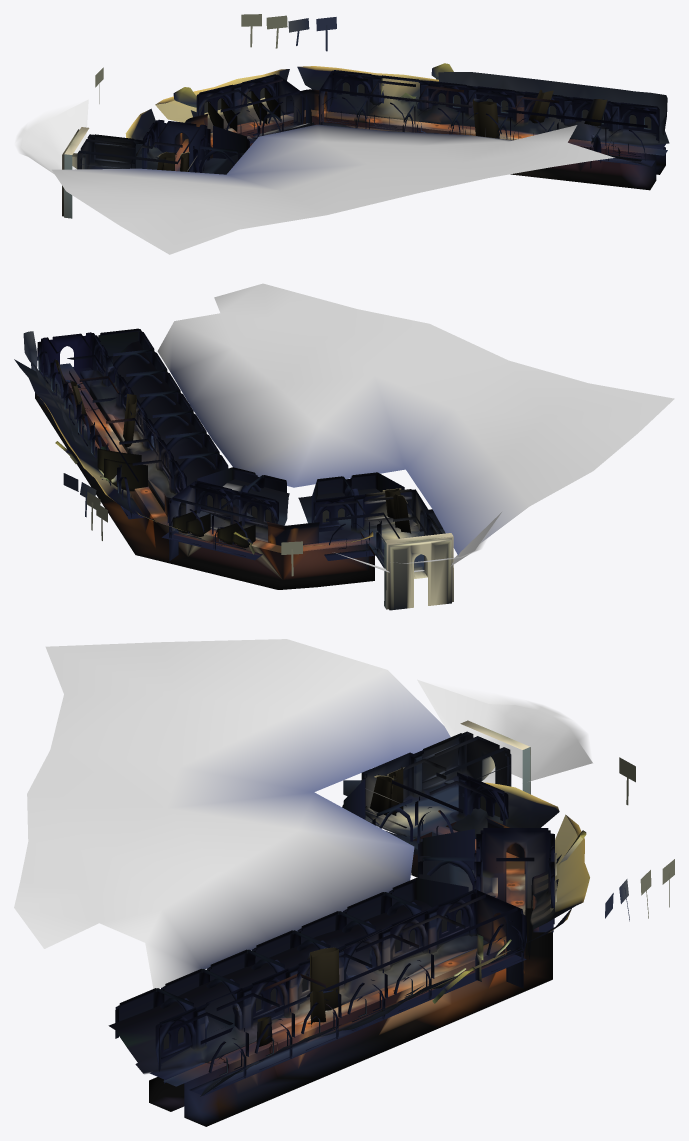
File: 01Start.gltf
The picture shows the model from 3 angles, top to bottom: view 1: azimuth 30°, elevation 25°; view 2: azimuth 150°, elevation 25°; view 3: azimuth 270°, elevation 25°; orthographic projection. The views are drawn at different scales.
Visible parts, largest first — view 1: stg013_a07_Mesh_0002, stg013_o07_Mesh_0005, stg013_sand_07_Mesh_0000, stg013_o07_Mesh_0021, stg013_o07_Mesh_0003, stg013_o13_Mesh_0022, stg013_a07_Mesh_0003, stg013_k07_Mesh_0000, stg013_o07_Mesh_0011, stg013_o07_Mesh_0015, stg013_o07_Mesh_0034, stg013_o08_Mesh_0001 (+7 smaller); view 2: stg013_a07_Mesh_0002, stg013_o07_Mesh_0005, stg013_o07_Mesh_0003, stg013_sand_07_Mesh_0000, stg013_o07_Mesh_0021, stg013_a07_Mesh_0003, stg013_k07_Mesh_0001, stg013_o07_Mesh_0013, stg013_o07_Mesh_0011, stg013_o07_Mesh_0034, stg013_o07_Mesh_0015, stg013_k07_Mesh_0000 (+7 smaller); view 3: stg013_a07_Mesh_0002, stg013_o07_Mesh_0005, stg013_o07_Mesh_0003, stg013_sand_07_Mesh_0000, stg013_o07_Mesh_0021, stg013_a07_Mesh_0003, stg013_o07_Mesh_0015, stg013_o07_Mesh_0011, stg013_k07_Mesh_0000, stg013_o07_Mesh_0009, stg013_o07_Mesh_0034, stg013_o08_Mesh_0001 (+8 smaller).
Boxes of the visible parts, box(x1,y1,x2,y2) form: stg013_a07_Mesh_0002: box(21, 99, 614, 254); stg013_o07_Mesh_0005: box(77, 70, 659, 172); stg013_sand_07_Mesh_0000: box(125, 66, 669, 174); stg013_o07_Mesh_0021: box(95, 64, 659, 162); stg013_o07_Mesh_0003: box(62, 116, 665, 216); stg013_o13_Mesh_0022: box(147, 63, 667, 170); stg013_a07_Mesh_0003: box(15, 103, 668, 172); stg013_k07_Mesh_0000: box(157, 89, 607, 171); stg013_o07_Mesh_0011: box(81, 80, 667, 171); stg013_o07_Mesh_0015: box(64, 73, 331, 218); stg013_o07_Mesh_0034: box(175, 111, 666, 170); stg013_o08_Mesh_0001: box(87, 97, 655, 169); stg013_a07_Mesh_0002: box(157, 283, 674, 572); stg013_o07_Mesh_0005: box(37, 328, 442, 607); stg013_o07_Mesh_0003: box(35, 367, 453, 610); stg013_sand_07_Mesh_0000: box(14, 341, 380, 553); stg013_o07_Mesh_0021: box(39, 331, 436, 534); stg013_a07_Mesh_0003: box(44, 370, 496, 570); stg013_k07_Mesh_0001: box(97, 448, 255, 547); stg013_o07_Mesh_0013: box(44, 350, 447, 609); stg013_o07_Mesh_0011: box(59, 343, 443, 578); stg013_o07_Mesh_0034: box(60, 363, 445, 578); stg013_o07_Mesh_0015: box(44, 334, 452, 608); stg013_k07_Mesh_0000: box(55, 359, 411, 533); stg013_a07_Mesh_0002: box(14, 639, 592, 988); stg013_o07_Mesh_0005: box(115, 731, 556, 1089); stg013_o07_Mesh_0003: box(149, 747, 552, 1126); stg013_sand_07_Mesh_0000: box(108, 782, 589, 1095); stg013_o07_Mesh_0021: box(115, 748, 581, 1059); stg013_a07_Mesh_0003: box(135, 684, 590, 1096); stg013_o07_Mesh_0015: box(365, 720, 546, 931); stg013_o07_Mesh_0011: box(163, 749, 526, 1086); stg013_k07_Mesh_0000: box(256, 766, 403, 1046); stg013_o07_Mesh_0009: box(150, 880, 553, 1095); stg013_o07_Mesh_0034: box(166, 780, 520, 1085); stg013_o08_Mesh_0001: box(161, 768, 550, 1067).
Bounding box in the file's own units: 234 × 39.92 × 175.
